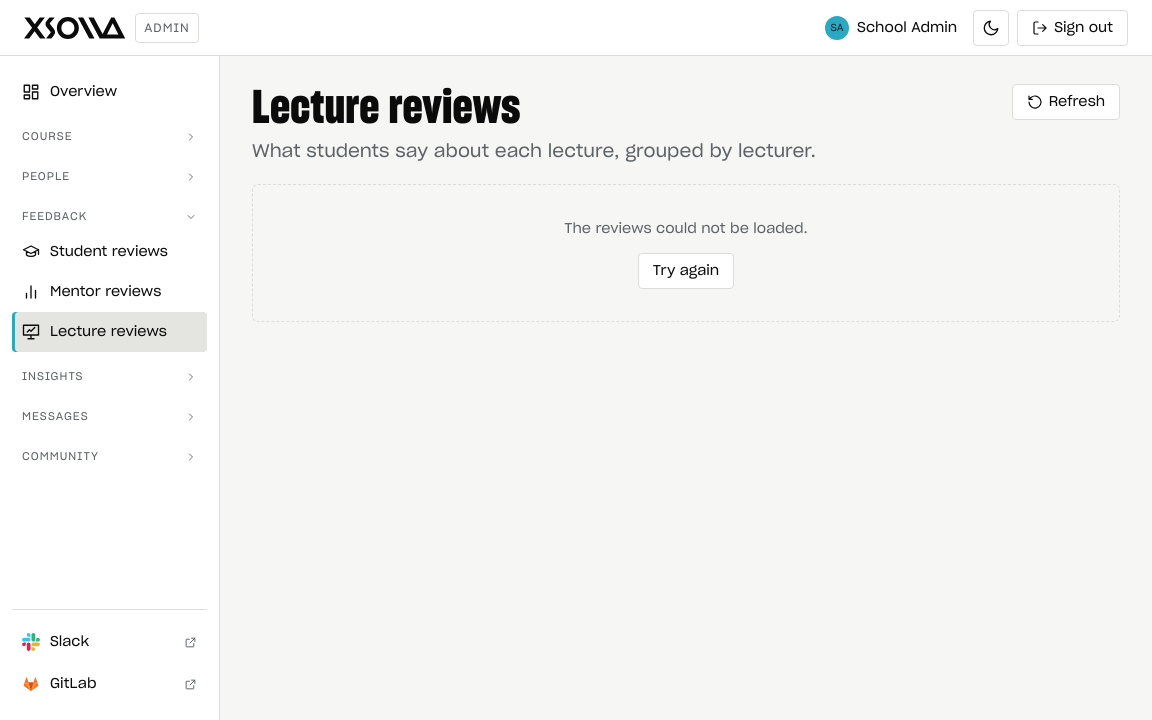
Admin: lecture reviews › a failure can be tried again; Refresh loads the list again
Expected: the text "The reviews could not be loaded." is shown, [564, 222, 808, 236]
Click the button "Try again" at (686, 271), box [638, 253, 734, 289]
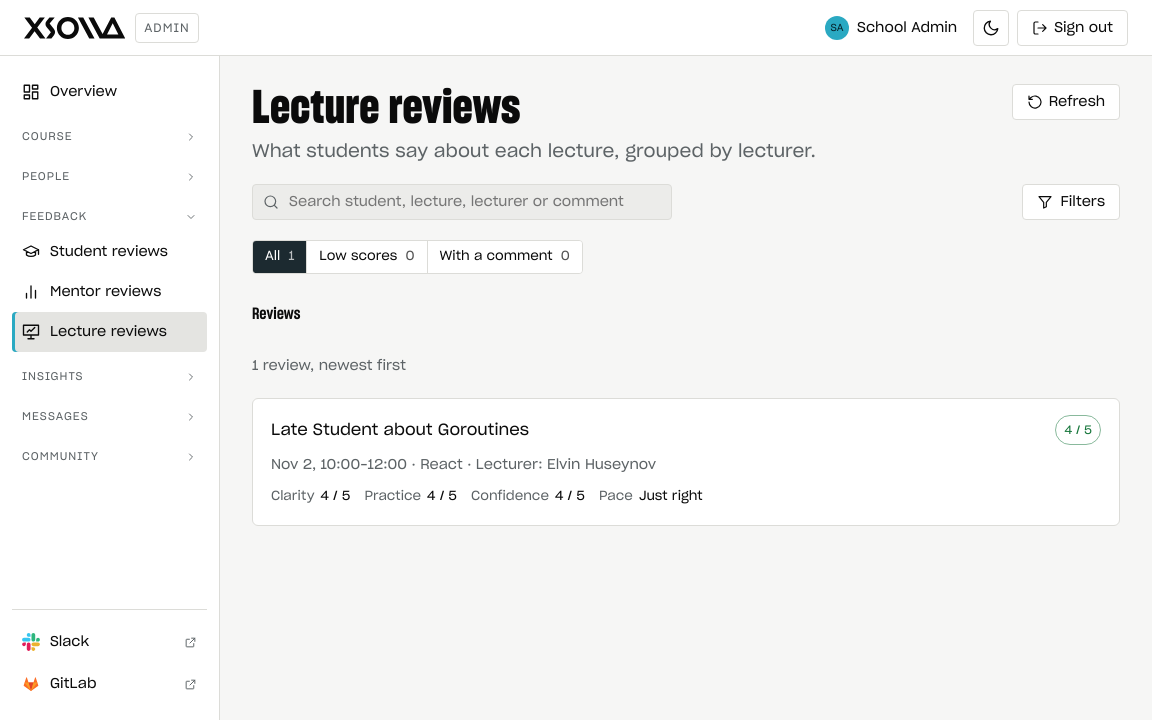
Expected: the list named "Reviews" shows "Late Student", [271, 422, 378, 438]
Click the button "Refresh" at (1066, 102), box [1012, 84, 1120, 120]
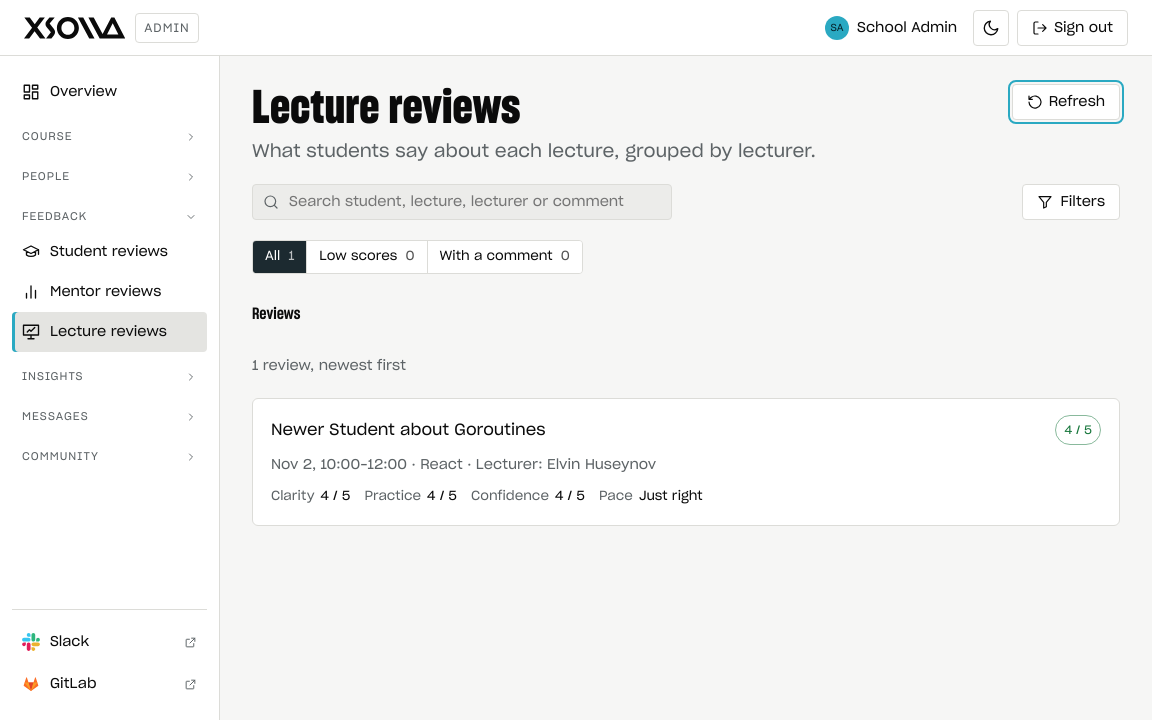
Expected: the text "Newer Student" is shown, [271, 422, 395, 438]
